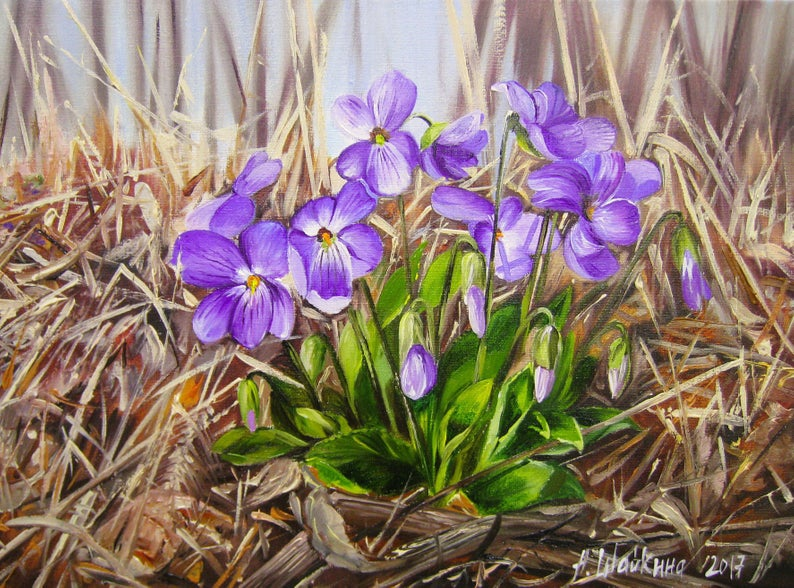violet: (489, 80, 654, 284), (147, 189, 299, 369), (334, 73, 461, 225), (271, 164, 398, 309)
